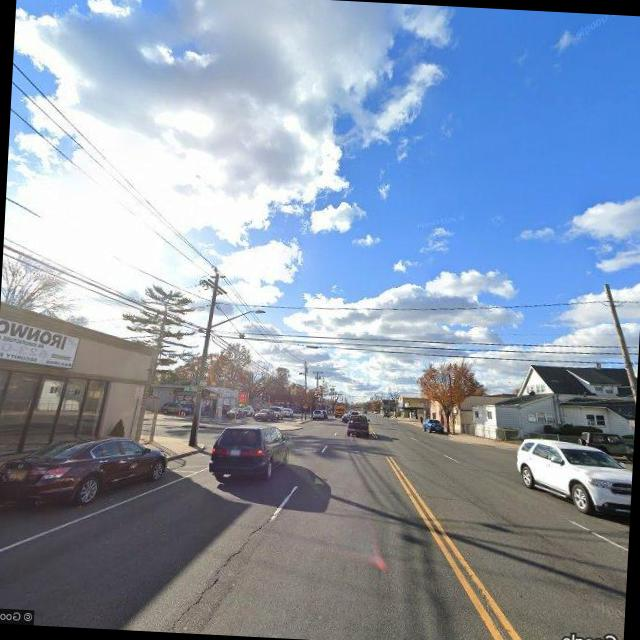pothole: (132, 510, 276, 635)
